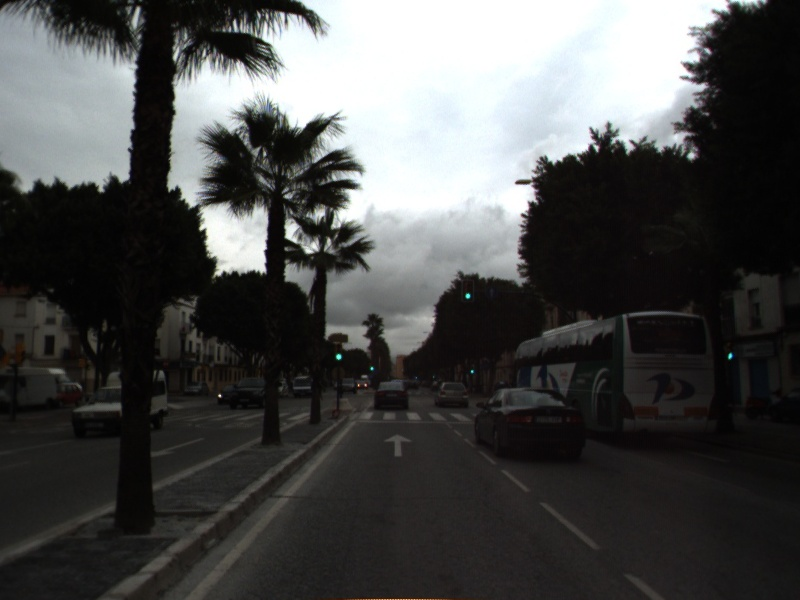STRAIGHT: (382, 432, 415, 459)
